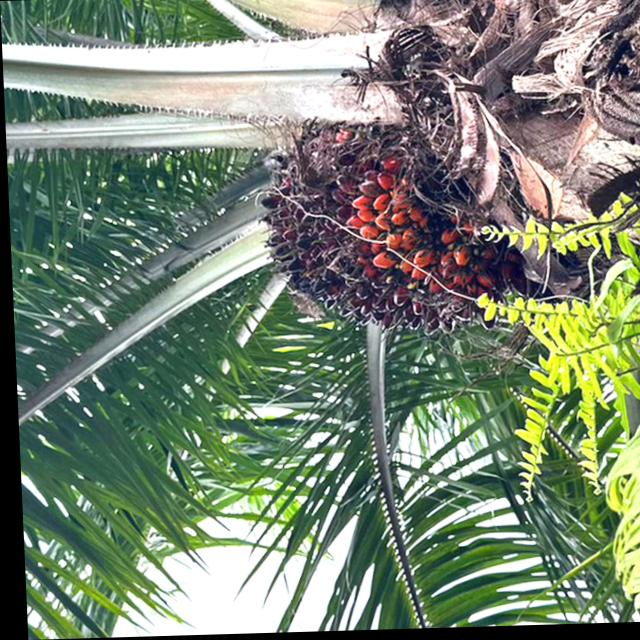ripe: (251, 128, 498, 344)
